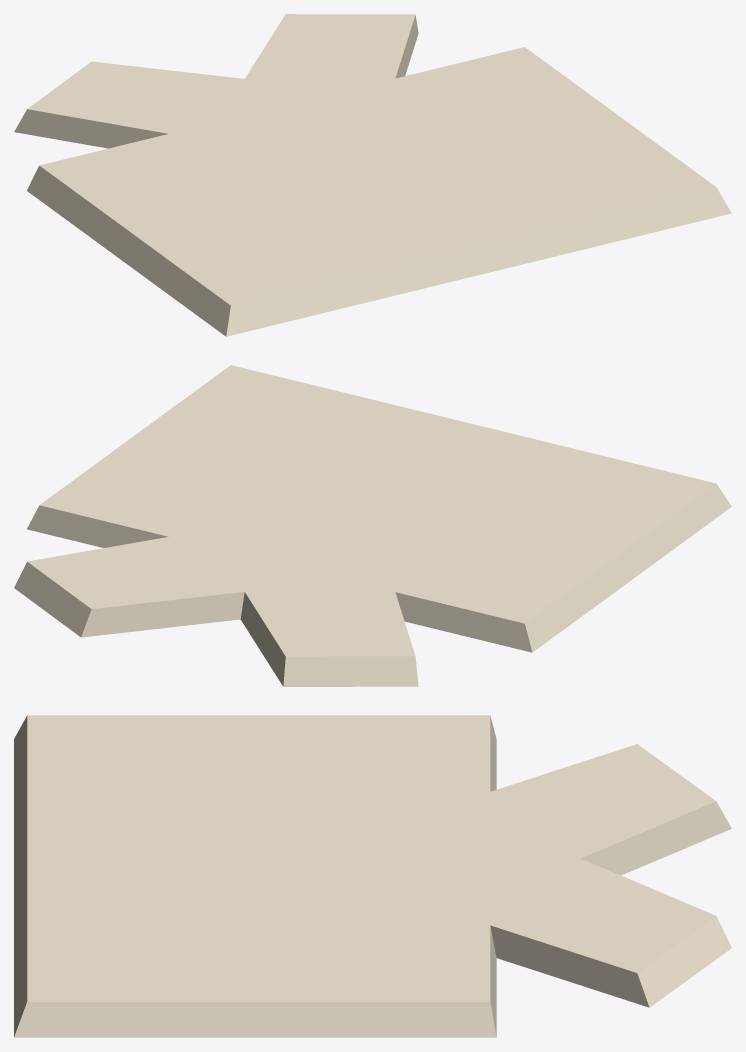
Rendered from SunnyLoop_Space_Symbol_Reward_v1.fbx.
The picture shows the model from 3 angles, top to bottom: view 1: azimuth 30°, elevation 25°; view 2: azimuth 150°, elevation 25°; view 3: azimuth 270°, elevation 25°; orthographic projection. The views are drawn at different scales.
Visible parts, largest first — view 1: SunnyLoop_Space_Symbol_Reward_v1; view 2: SunnyLoop_Space_Symbol_Reward_v1; view 3: SunnyLoop_Space_Symbol_Reward_v1.
Part boxes in pixels (x1,y1,x2,y2): SunnyLoop_Space_Symbol_Reward_v1: (14, 14, 731, 336); SunnyLoop_Space_Symbol_Reward_v1: (14, 365, 731, 686); SunnyLoop_Space_Symbol_Reward_v1: (14, 715, 731, 1037).
Bounding box in the file's own units: 0.84 × 0.0392 × 0.854.
